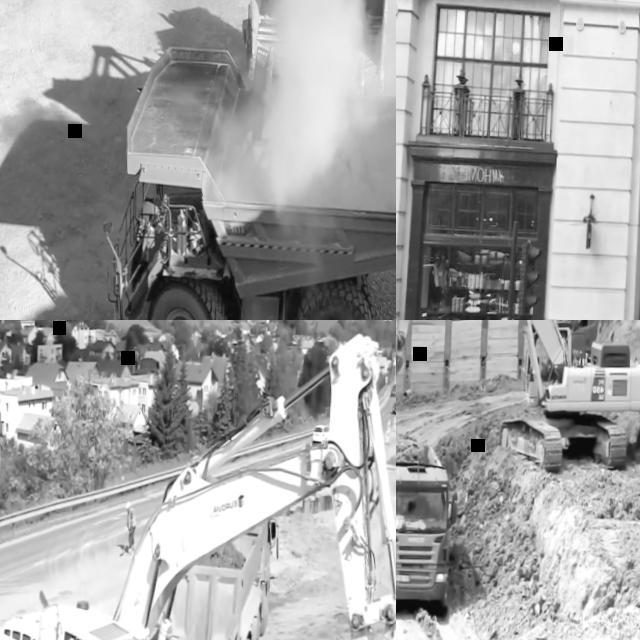helmet: (126, 501, 131, 508)
vest: (128, 506, 136, 530)
